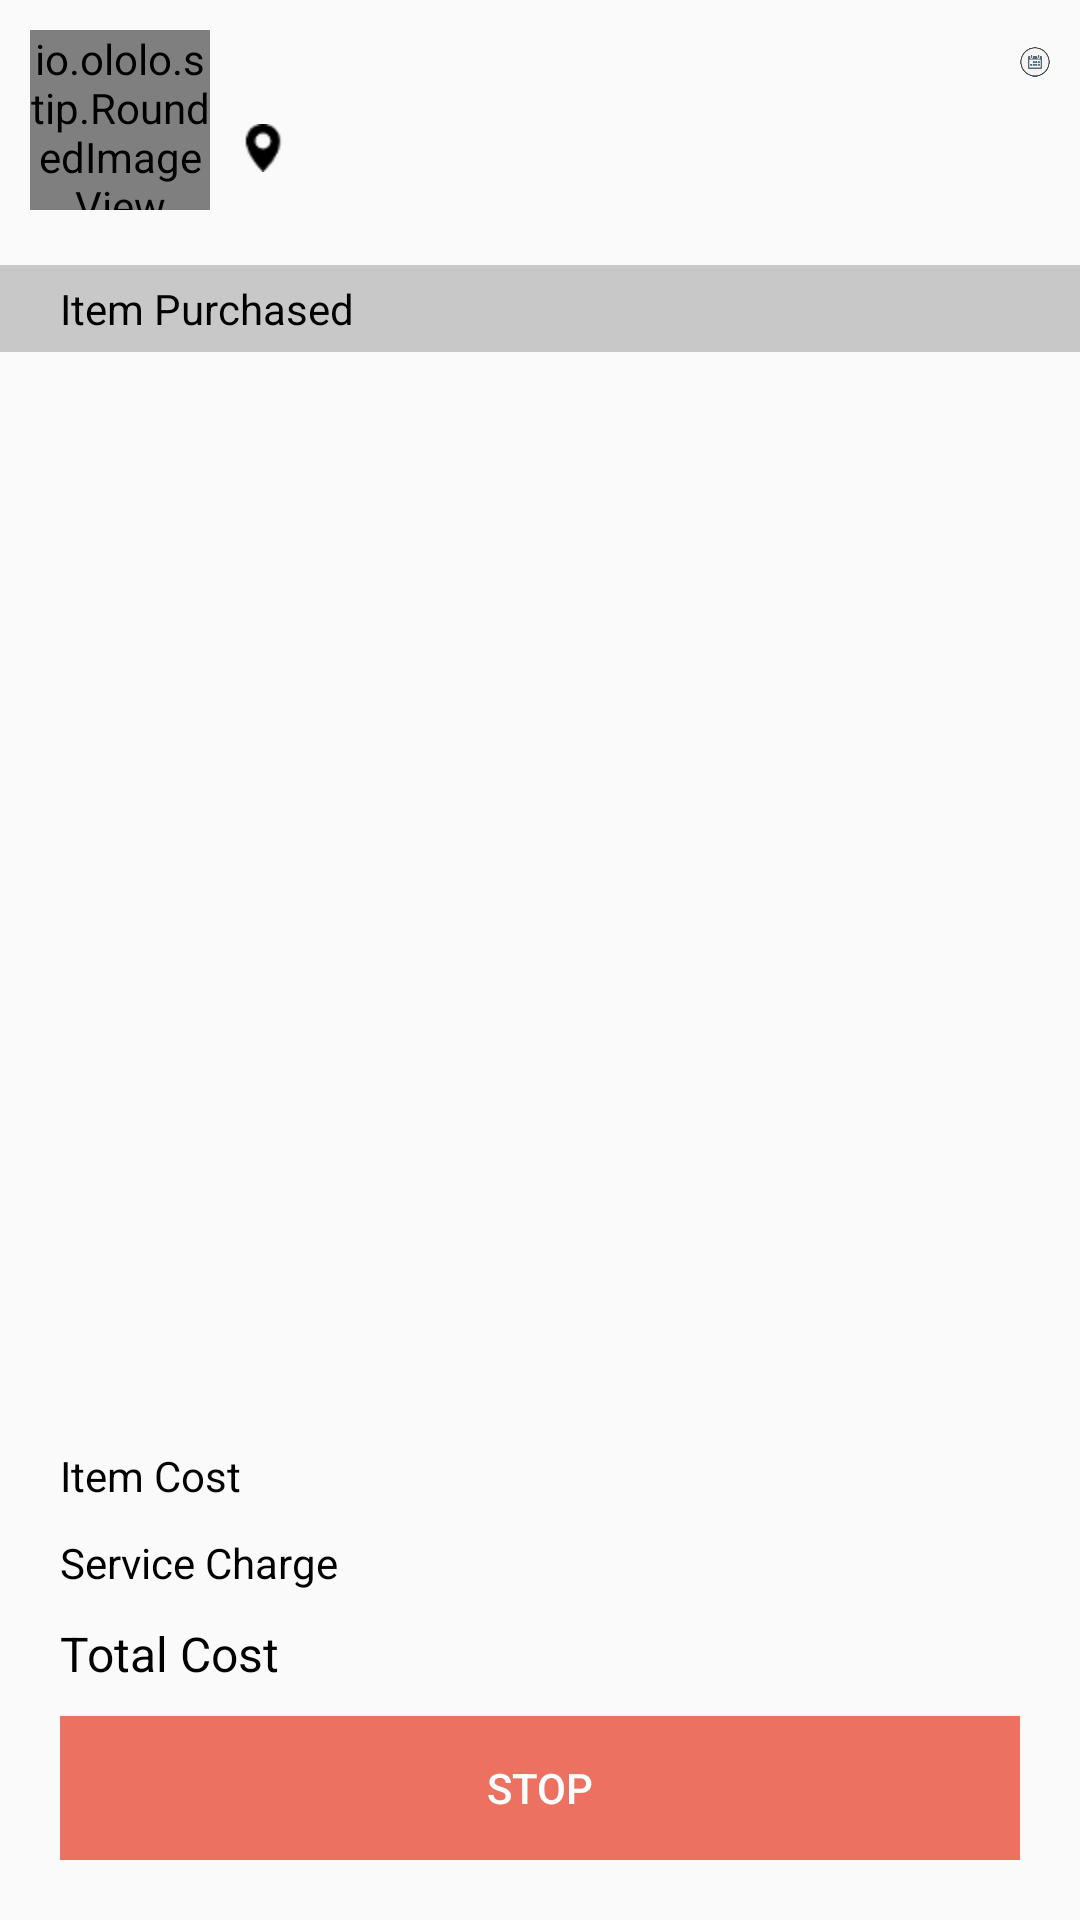

Screen size 1080 × 1920. Icon name, then its center in pixels as (x,y):
task: (1035,62)
